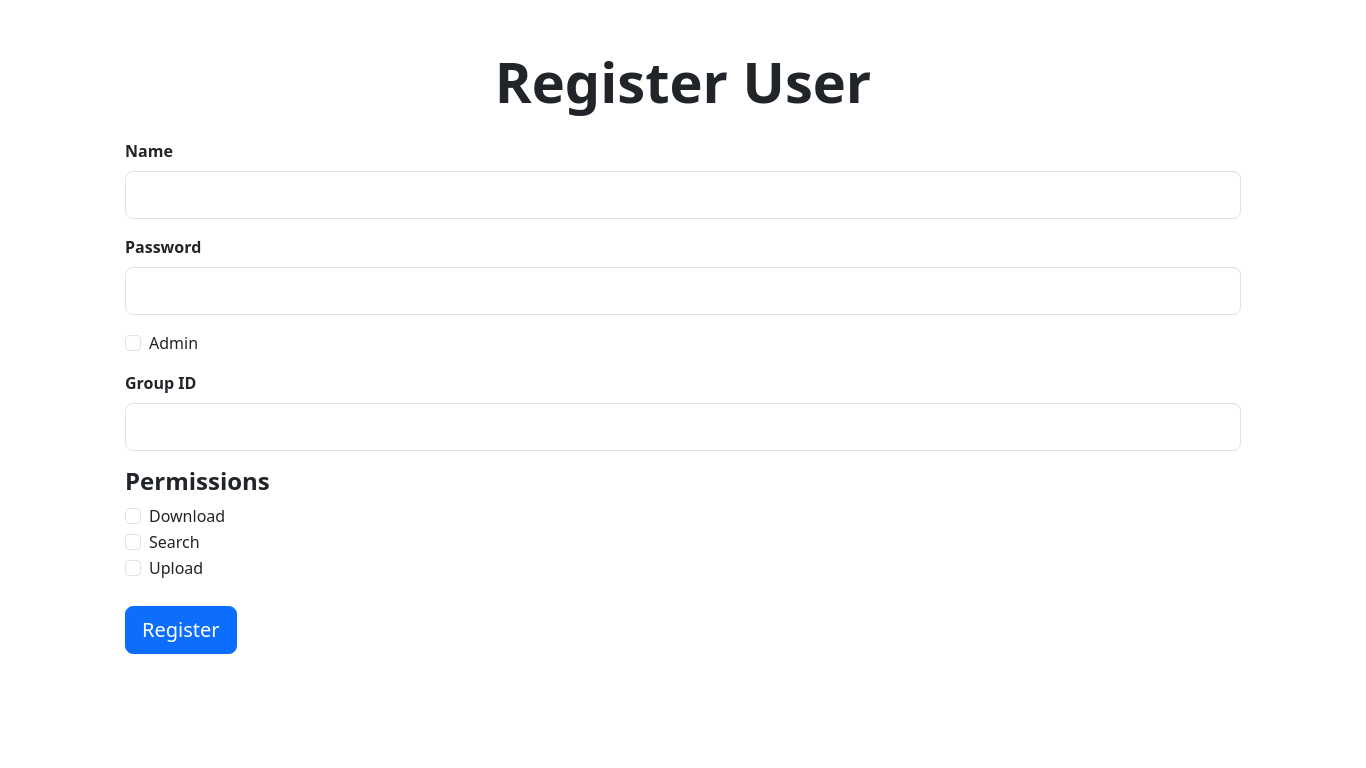
Scenario: RegisterUser Component › displays API error message on submission failure
The width and height of the screenshot is (1366, 768).
Note: Fill out the form
In the field labelled "Name": (683, 195) 125,171 -> 1241,219, type "Jane Doe"
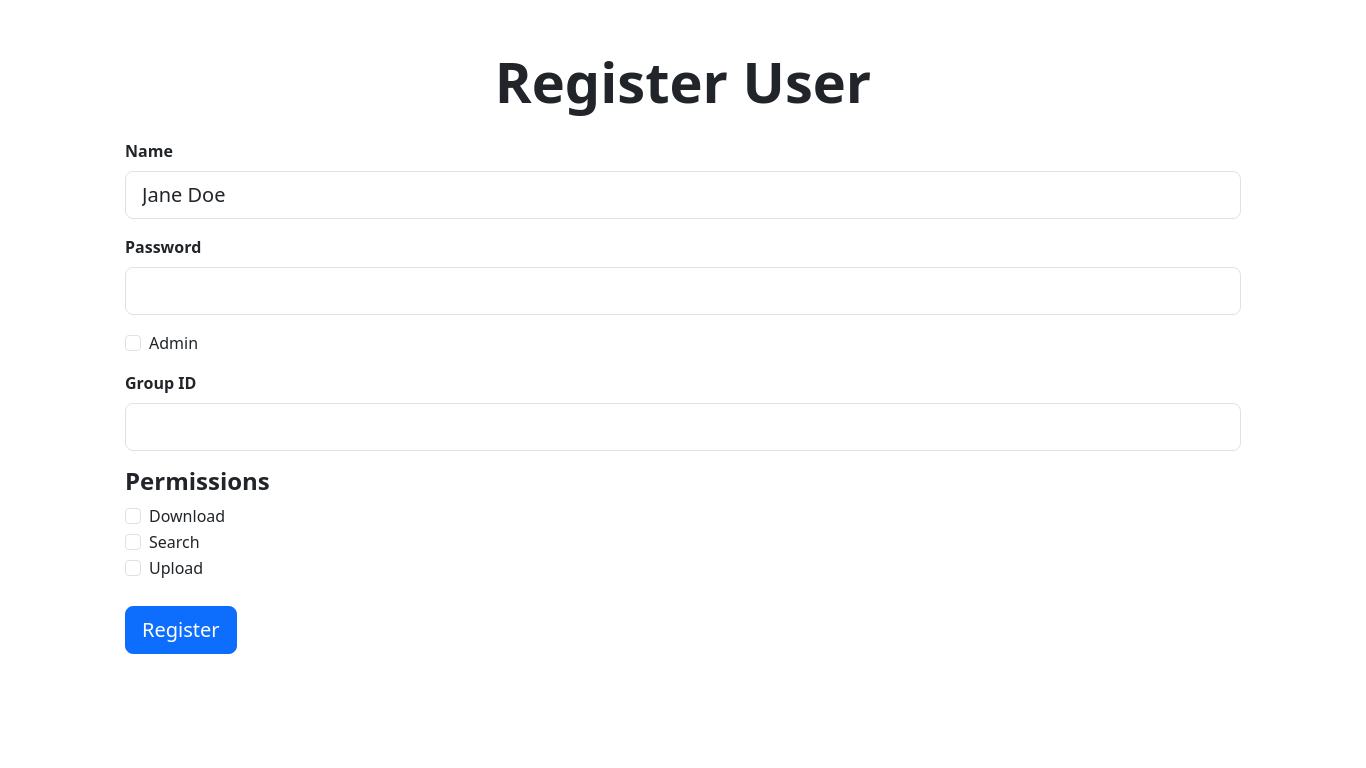
In the password field labelled "Password": (683, 291) 125,267 -> 1241,315, type "password123"
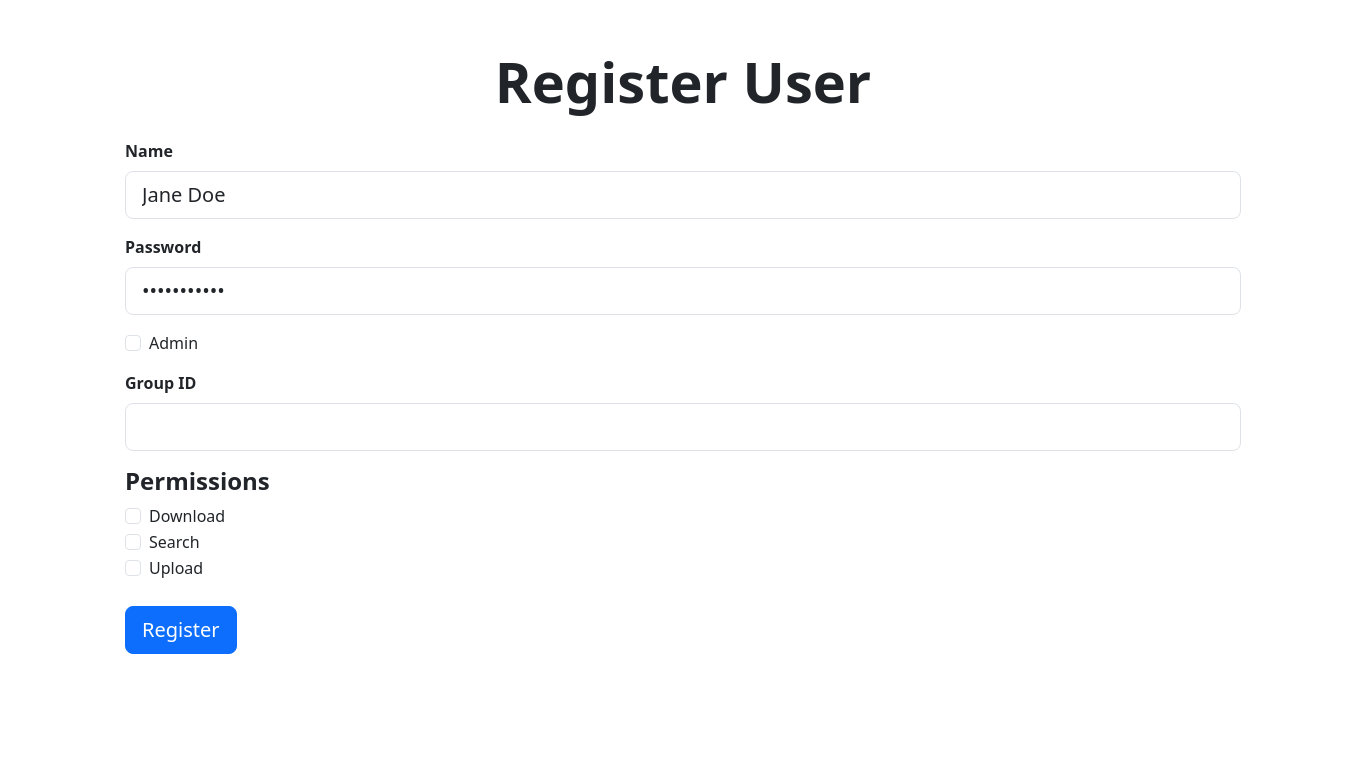
In the number field labelled "Group ID": (683, 427) 125,403 -> 1241,451, type "999"
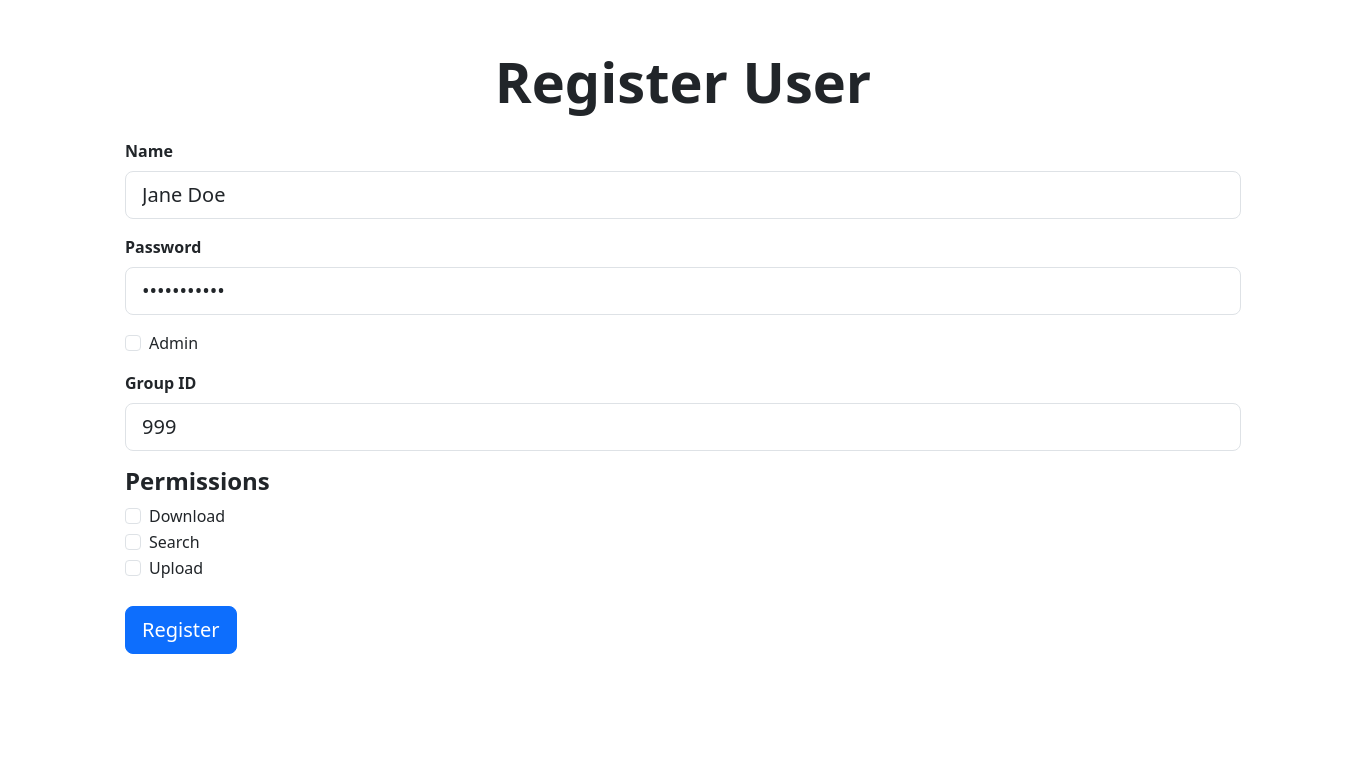
Note: Submit the form
Click the button "Register": (181, 630) 125,606 -> 236,654
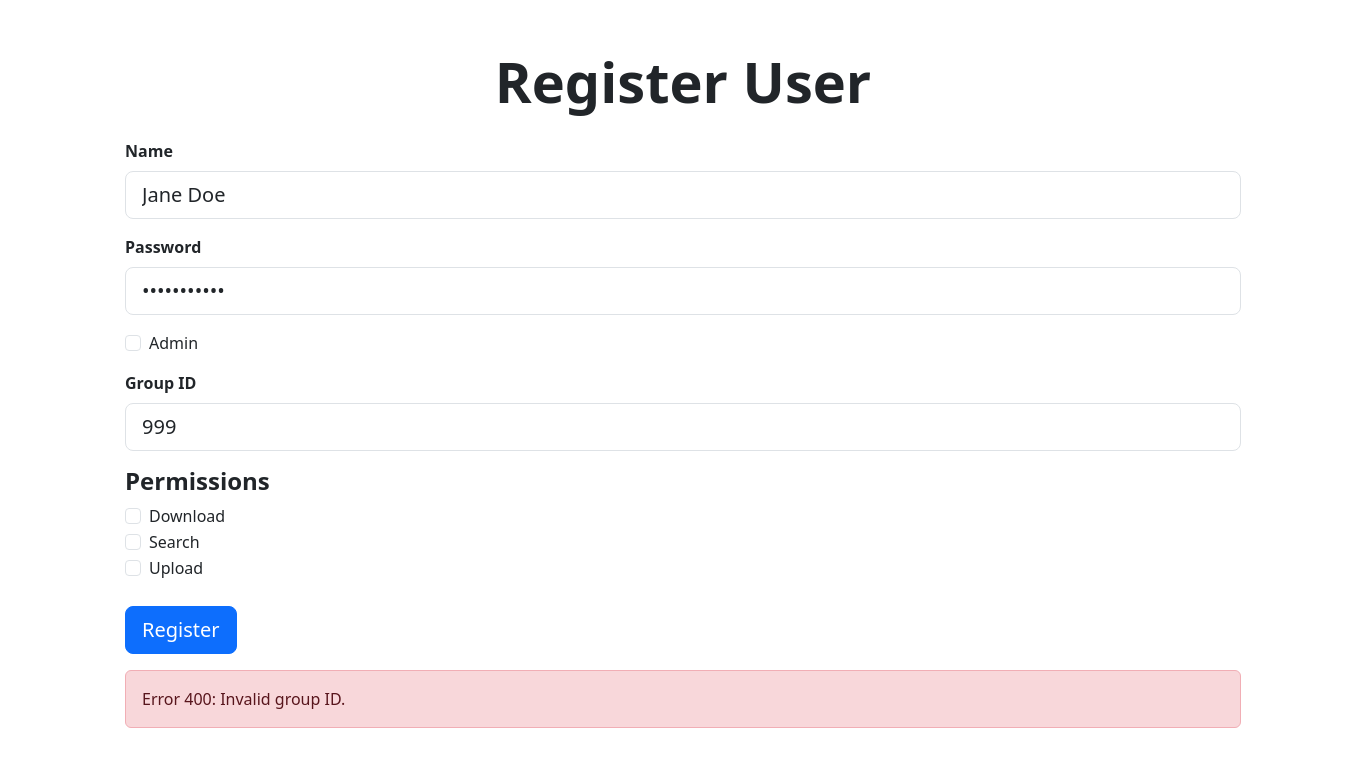
Expected: the text "Error 400: Invalid group ID." is shown, 125,670 -> 1241,728
